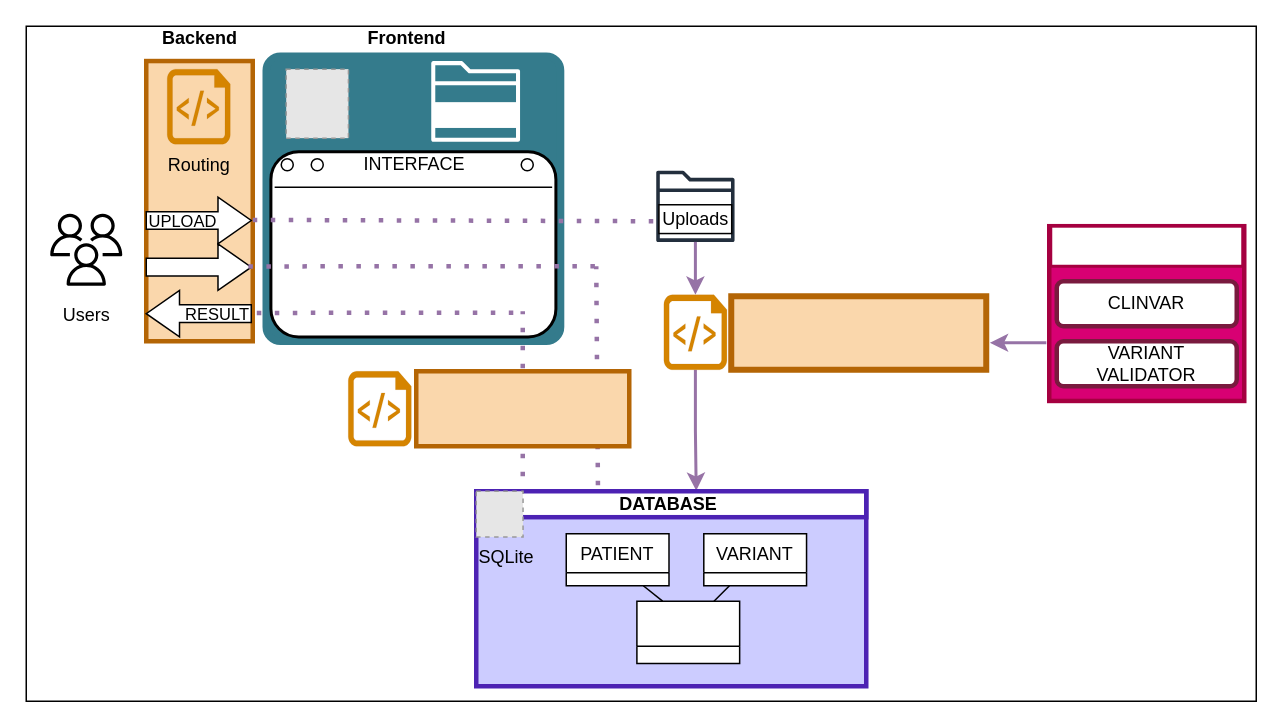
The diagram is 1283 pixels wide and 728 high, and some of its shapes have lost their labels. Grey dashed boxes stand in for pictures. The box of each missing label's shape, as (x1, y1, x2, y2) in pixels:
Database search and output function: (413, 368, 631, 448)
External APIs: (1048, 224, 1244, 267)
Extract CSV and VCF data Enrich HGVS and Clinvar: (728, 292, 988, 372)
JUNCTION TABLE: (635, 600, 740, 664)
SEARCH: (145, 242, 251, 290)
Templates: (432, 101, 518, 127)
